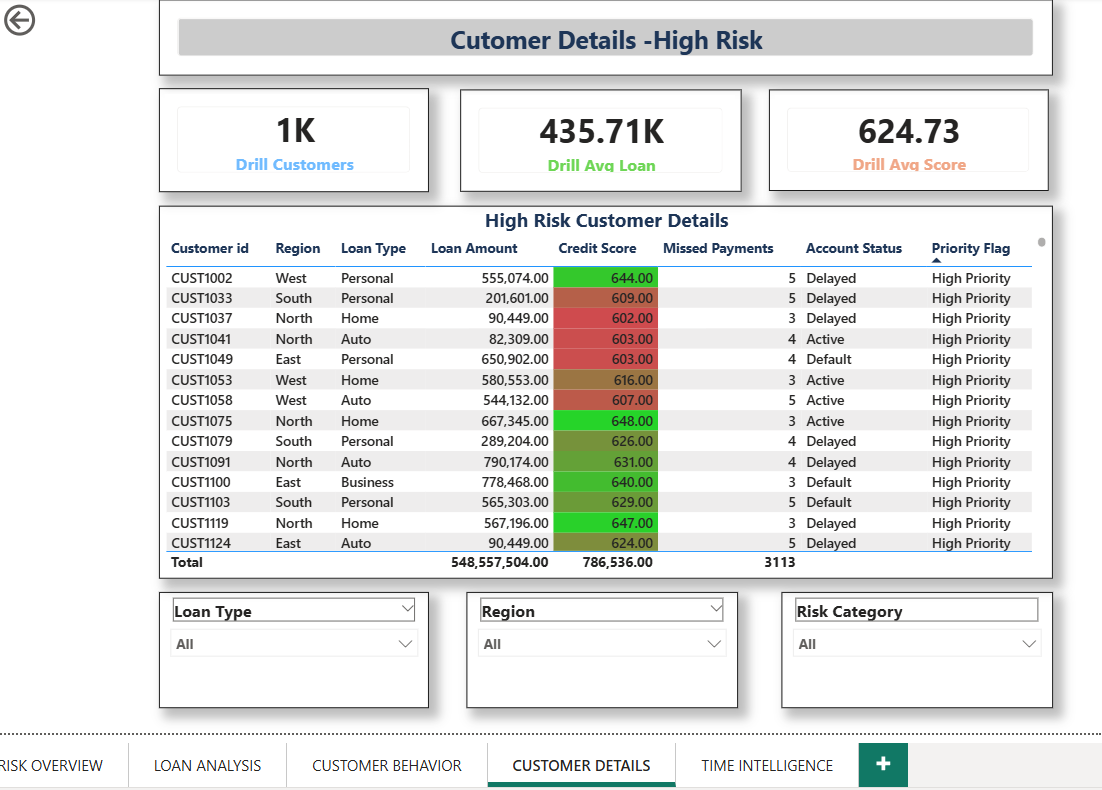

What the dashboard file says about the page in this screenshot:
{"tool":"powerbi","page":{"name":"CUSTOMER DETAILS","canvas":[1280,720],"ordinal":3},"visuals":[{"type":"actionButton","box":[0,2.4,100.3,40.4],"z":0},{"type":"cardVisual","fields":{"Data":["Measure.Drill Title"]},"box":[156,3,874,74],"z":1000},{"type":"cardVisual","fields":{"Data":["Measure.Drill Customers"]},"box":[156.5,89.3,264.1,101.5],"z":2000},{"type":"cardVisual","fields":{"Data":["Measure.Drill Avg Loan"]},"box":[451.2,90.5,275.1,100.3],"z":3000},{"type":"cardVisual","fields":{"Data":["Measure.Drill Avg Score"]},"box":[753.3,90.5,273.9,99],"z":4000},{"type":"tableEx","title":"High Risk Customer Details","fields":{"Values":["customer_credit_data.customer_id","customer_credit_data.region","customer_credit_data.loan_type","Sum(customer_credit_data.loan_amount)","Sum(customer_credit_data.credit_score)","Sum(customer_credit_data.missed_payments)","customer_credit_data.account_status","customer_credit_data.Priority Flag"]},"box":[156.5,204.2,874.3,364.4],"z":5000},{"type":"slicer","fields":{"Values":["customer_credit_data.loan_type"]},"box":[156.5,582.1,264.1,113.7],"z":6000},{"type":"slicer","fields":{"Values":["customer_credit_data.region"]},"box":[457.3,582.1,265.4,113.7],"z":7000},{"type":"slicer","fields":{"Values":["customer_credit_data.risk_category"]},"box":[765.5,582.1,265.4,113.7],"z":8000}]}

Visuals, with their boxes on the page's 1280x720 design canvas (x1, y1, x2, y2). These are canvas units, not pixel positions in the 1102x790 screenshot, which may show the page scaled, cropped or inside an application window:
actionButton: region(0, 2, 100, 43)
cardVisual - Measure.Drill Title: region(156, 3, 1030, 77)
cardVisual - Measure.Drill Customers: region(156, 89, 421, 191)
cardVisual - Measure.Drill Avg Loan: region(451, 90, 726, 191)
cardVisual - Measure.Drill Avg Score: region(753, 90, 1027, 190)
"High Risk Customer Details" tableEx: region(156, 204, 1031, 569)
slicer - customer_credit_data.loan_type: region(156, 582, 421, 696)
slicer - customer_credit_data.region: region(457, 582, 723, 696)
slicer - customer_credit_data.risk_category: region(766, 582, 1031, 696)
